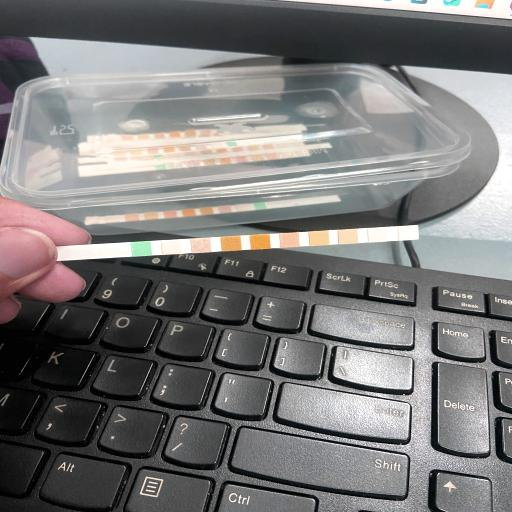Bilirubin: (163, 241, 181, 253)
Blood: (251, 236, 269, 248)
Glucose: (132, 243, 150, 255)
Ketone: (192, 240, 210, 252)
Leukocytes: (400, 226, 418, 238)
Nitrite: (368, 228, 386, 242)
Protein: (310, 232, 328, 244)
SpGravity: (222, 238, 241, 250)
Urobilinogen: (339, 230, 357, 243)
pH: (280, 234, 298, 246)
strip: (59, 225, 418, 260)
